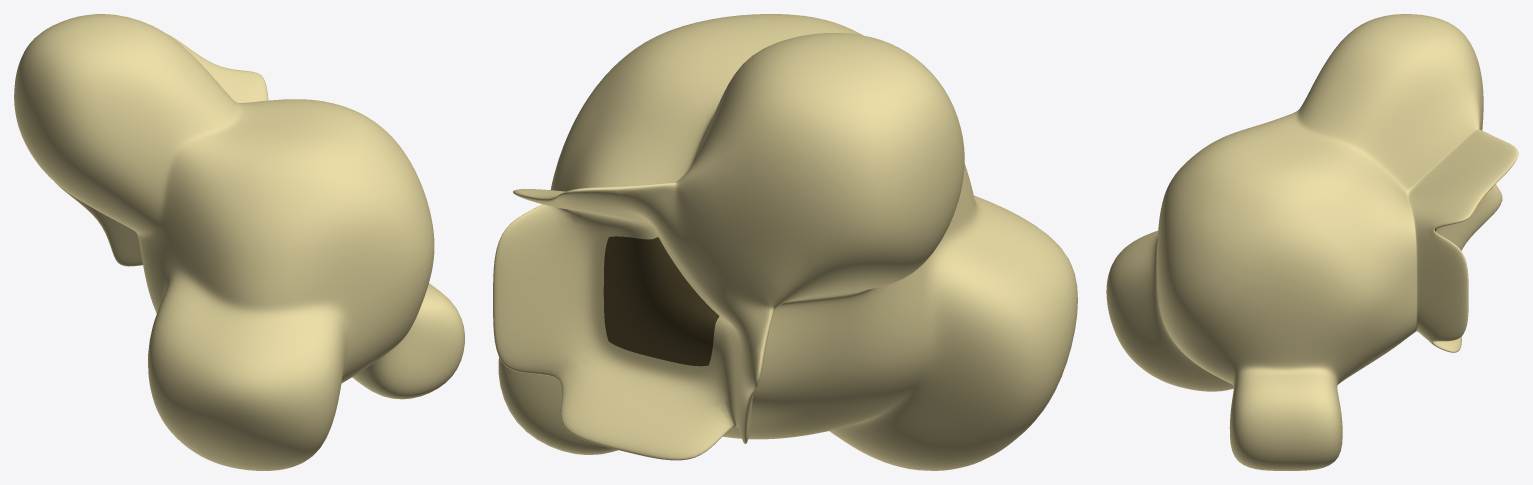
The model's file is Popcorn.fbx.
3 renders of one model, left to right at view 1: azimuth 30°, elevation 25°; view 2: azimuth 150°, elevation 25°; view 3: azimuth 270°, elevation 25°, orthographic. The views are drawn at different scales.
Visible parts, largest first — view 1: Cube; view 2: Cube; view 3: Cube.
Part boxes in pixels (x1=…): Cube: x1=14, y1=14, x2=464, y2=470; Cube: x1=493, y1=14, x2=1077, y2=470; Cube: x1=1106, y1=14, x2=1518, y2=470.
Bounding box in the file's own units: 286 × 288 × 316.
